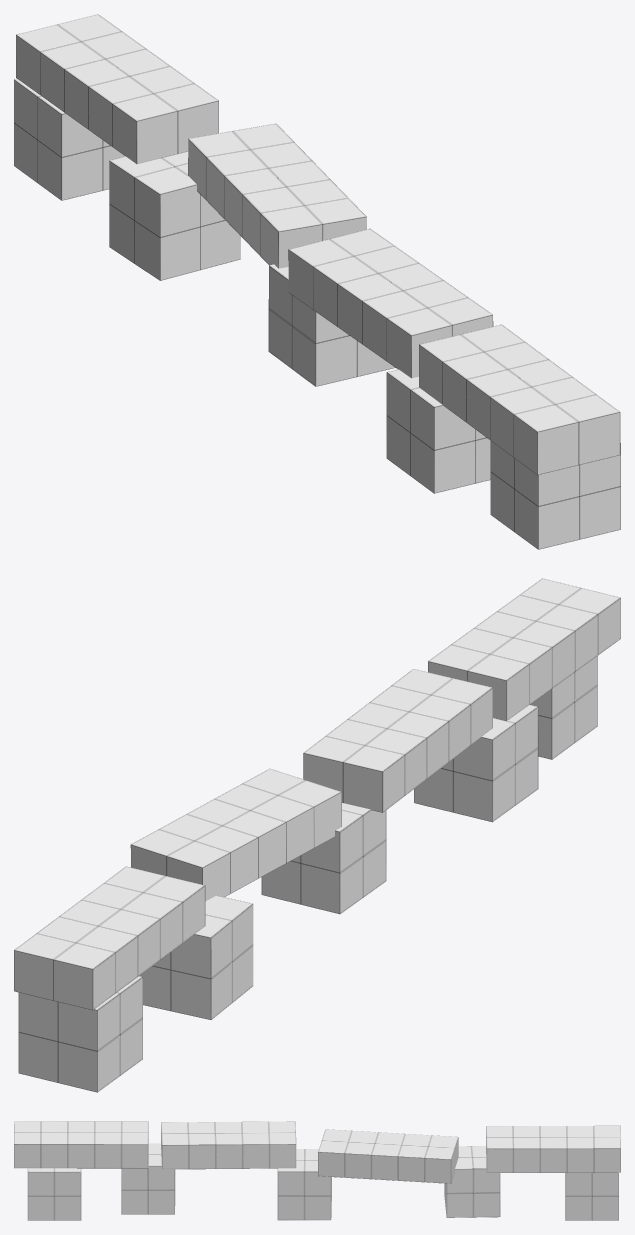
3 views of the same model, one above another, from view 1: azimuth 30°, elevation 25°; view 2: azimuth 150°, elevation 25°; view 3: azimuth 270°, elevation 25° (orthographic). The views are drawn at different scales.
Visible parts, largest first — view 1: GridPlank_7, GridPlank_8, GridPlank_5, GridPlank_4, GridCube_2, Plane/BasicEnvironment/StartCube-1, GridCube_3, Plane/BasicEnvironment/StartCube-2, GridCube_1; view 2: GridPlank_8, GridPlank_5, GridPlank_4, GridPlank_7, Plane/BasicEnvironment/StartCube-2, GridCube_2, GridCube_3, GridCube_1, Plane/BasicEnvironment/StartCube-1; view 3: GridPlank_4, GridPlank_7, GridPlank_5, GridPlank_8, GridCube_2, GridCube_1, Plane/BasicEnvironment/StartCube-1, GridCube_3, Plane/BasicEnvironment/StartCube-2.
Boxes of the visible parts, left/top/right/bottom form: GridPlank_7: left=419, top=324, right=620, bottom=475; GridPlank_8: left=16, top=14, right=218, bottom=163; GridPlank_5: left=288, top=228, right=493, bottom=378; GridPlank_4: left=188, top=123, right=366, bottom=268; GridCube_2: left=109, top=151, right=240, bottom=280; Plane/BasicEnvironment/StartCube-1: left=490, top=441, right=620, bottom=549; GridCube_3: left=386, top=369, right=490, bottom=493; Plane/BasicEnvironment/StartCube-2: left=14, top=79, right=124, bottom=200; GridCube_1: left=268, top=264, right=395, bottom=386; GridPlank_8: left=14, top=866, right=205, bottom=1010; GridPlank_5: left=303, top=669, right=492, bottom=812; GridPlank_4: left=130, top=768, right=341, bottom=901; GridPlank_7: left=428, top=578, right=620, bottom=721; Plane/BasicEnvironment/StartCube-2: left=18, top=976, right=142, bottom=1092; GridCube_2: left=139, top=895, right=253, bottom=1019; GridCube_3: left=414, top=705, right=538, bottom=822; GridCube_1: left=261, top=803, right=386, bottom=914; Plane/BasicEnvironment/StartCube-1: left=530, top=656, right=597, bottom=759; GridPlank_4: left=318, top=1129, right=458, bottom=1183; GridPlank_7: left=14, top=1121, right=148, bottom=1168; GridPlank_5: left=161, top=1121, right=296, bottom=1169; GridPlank_8: left=486, top=1125, right=620, bottom=1172; GridCube_2: left=444, top=1146, right=500, bottom=1217; GridCube_1: left=277, top=1149, right=331, bottom=1220; Plane/BasicEnvironment/StartCube-1: left=27, top=1168, right=81, bottom=1220; GridCube_3: left=121, top=1143, right=175, bottom=1214; Plane/BasicEnvironment/StartCube-2: left=565, top=1172, right=618, bottom=1220.
Bounding box in the file's own units: 0.3263 × 0.3006 × 2.26.
